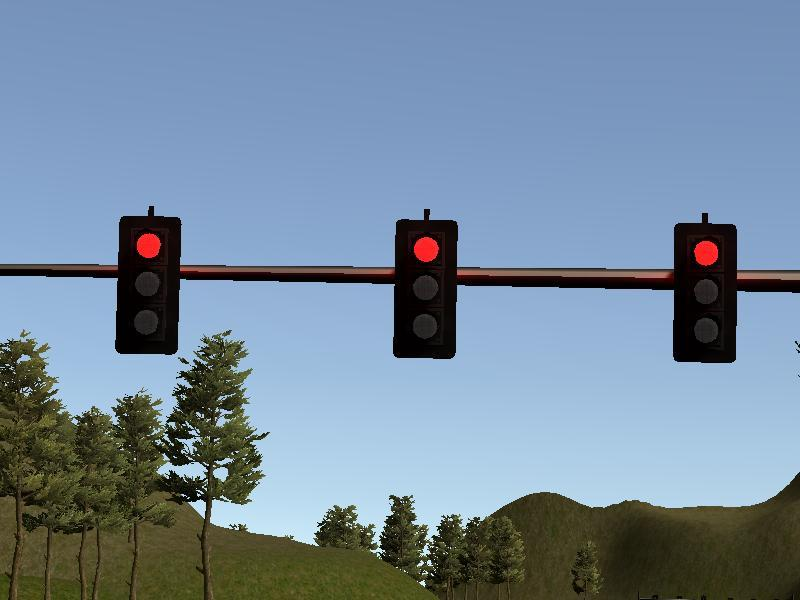Red: (675, 223, 734, 363), (395, 217, 454, 356), (120, 214, 175, 353)
